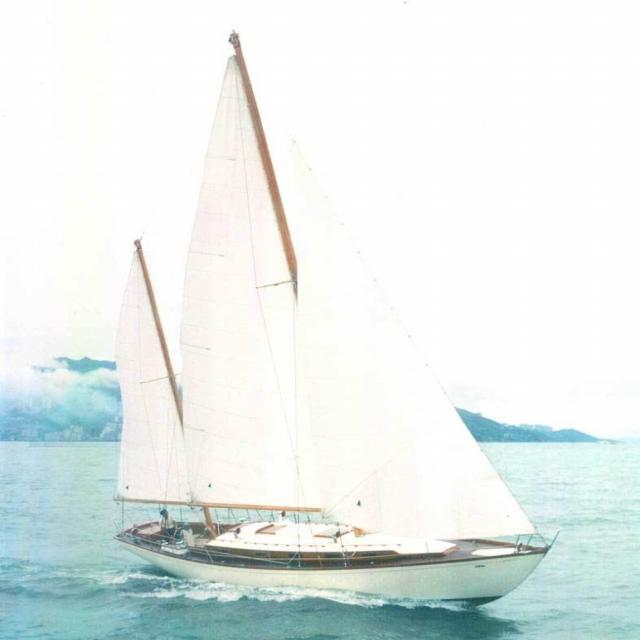Ship: (111, 33, 554, 616)
